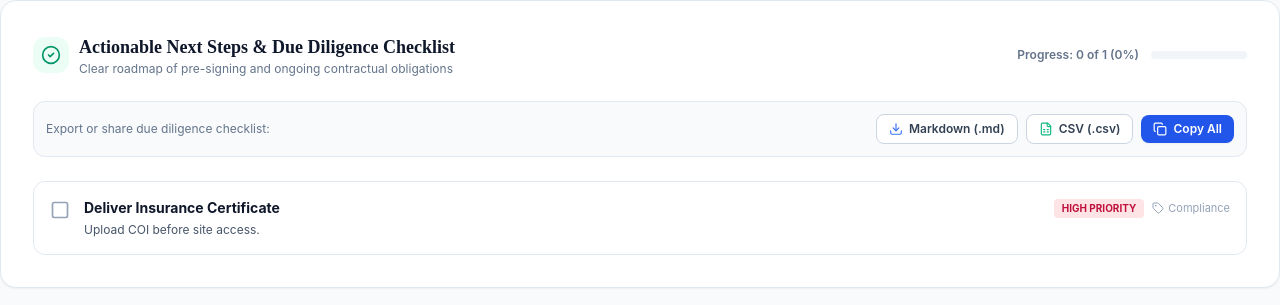
Test case: React UI Components › ActionChecklist Component › renders items and toggles completion state on user click
The width and height of the screenshot is (1280, 305).
Expected: the heading "Deliver Insurance Certificate" is shown, x1=84 y1=198 x2=280 y2=218
Expected: the text "Progress: 0 of 1 (0%)" is shown, x1=1017 y1=47 x2=1139 y2=63
// Click to toggle
Click the checkbox.
click(640, 218)  # box x1=33 y1=181 x2=1247 y2=255
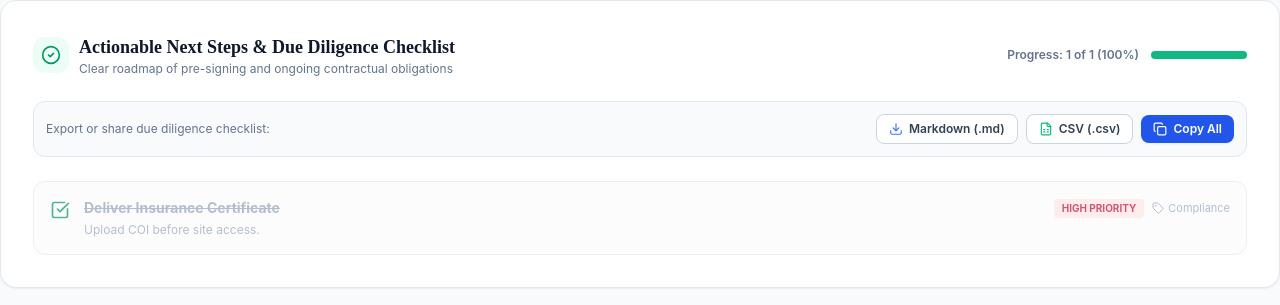
Result: the text "Progress: 1 of 1 (100%)" is shown at x1=1007 y1=47 x2=1139 y2=63
